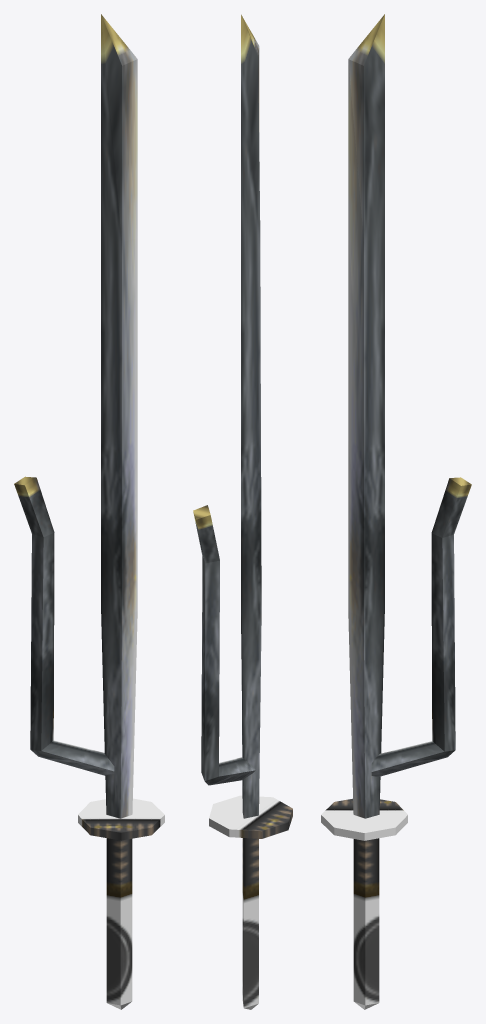
File: heavybladev03_1.obj
3 renders of one model, left to right at view 1: azimuth 90°, elevation 25°; view 2: azimuth 150°, elevation 25°; view 3: azimuth 270°, elevation 25°, orthographic.
Visible parts, largest first — view 1: MDL_cw2hkt03_1; view 2: MDL_cw2hkt03_1; view 3: MDL_cw2hkt03_1.
Part boxes in pixels (box(x1,y1,x2,y2)): MDL_cw2hkt03_1: box(14, 14, 164, 1009); MDL_cw2hkt03_1: box(193, 14, 292, 1009); MDL_cw2hkt03_1: box(321, 14, 471, 1009).
Size of the model in its own units: 0.1388 by 1.77 by 0.2425.
